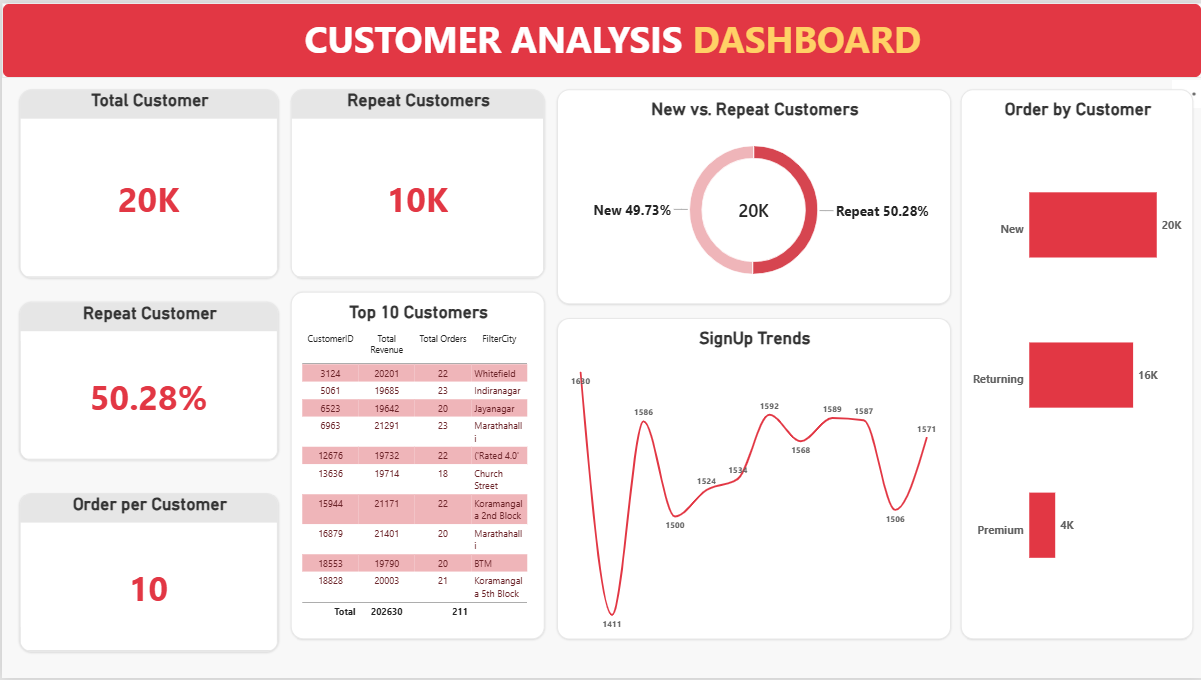

The page's visual inventory and layout, read from the dashboard file:
{"tool":"powerbi","page":{"name":" Customer Analysis ","canvas":[1920,1080],"ordinal":1},"visuals":[{"type":"cardVisual","title":"Total Customer","fields":{"Data":["KPI Measures.Total Customers"]},"box":[28,138,414,302],"z":0},{"type":"cardVisual","title":"Repeat Customers","fields":{"Data":["Customer Measures.Repeat Customers"]},"box":[462,138,406,302],"z":1000},{"type":"cardVisual","title":"Order per Customer","fields":{"Data":["Customer Measures.Orders Per Customer"]},"box":[28,784,414,254],"z":2000},{"type":"shape","box":[0,0,1920,120],"z":3000},{"type":"cardVisual","title":"Repeat Customer","fields":{"Data":["Customer Measures.Repeat Customer %"]},"box":[28,478,414,254],"z":4000},{"type":"lineChart","title":"SignUp Trends","fields":{"Y":["KPI Measures.Total Customers"],"Category":["dim_customer.SignupDate.Variation.Date Hierarchy.Month"]},"box":[888,504,630,534],"z":5000},{"type":"textbox","box":[462.5,15,1030,85],"z":7000},{"type":"clusteredBarChart","title":"Order by Customer","fields":{"Category":["dim_customer.CustomerType"],"Y":["KPI Measures.Total Orders"]},"box":[1534,138,372,900],"z":8000},{"type":"donutChart","title":"New vs. Repeat Customers","fields":{"Y":["CountNonNull(dim_customer.CustomerID)"],"Category":["dim_customer.New vs Repeat"]},"box":[888,138,630,344],"z":9000},{"type":"tableEx","title":"Top 10 Customers","fields":{"Values":["fact_order.CustomerID","KPI Measures.Total Revenue","KPI Measures.Total Orders","dim_customer.FilterCity"]},"box":[462,462,406,576],"z":10000}]}

Visuals, with their boxes in screenshot pixels (x1, y1, x2, y2), scaled from the page's 1920x1080 canvas onto the 1201x680 screenshot:
"Total Customer" cardVisual: bbox=(18, 87, 276, 277)
"Repeat Customers" cardVisual: bbox=(289, 87, 543, 277)
"Order per Customer" cardVisual: bbox=(18, 494, 276, 654)
shape: bbox=(0, 0, 1200, 76)
"Repeat Customer" cardVisual: bbox=(18, 301, 276, 461)
"SignUp Trends" lineChart: bbox=(555, 317, 950, 654)
textbox: bbox=(289, 9, 934, 63)
"Order by Customer" clusteredBarChart: bbox=(960, 87, 1192, 654)
"New vs. Repeat Customers" donutChart: bbox=(555, 87, 950, 303)
"Top 10 Customers" tableEx: bbox=(289, 291, 543, 654)
